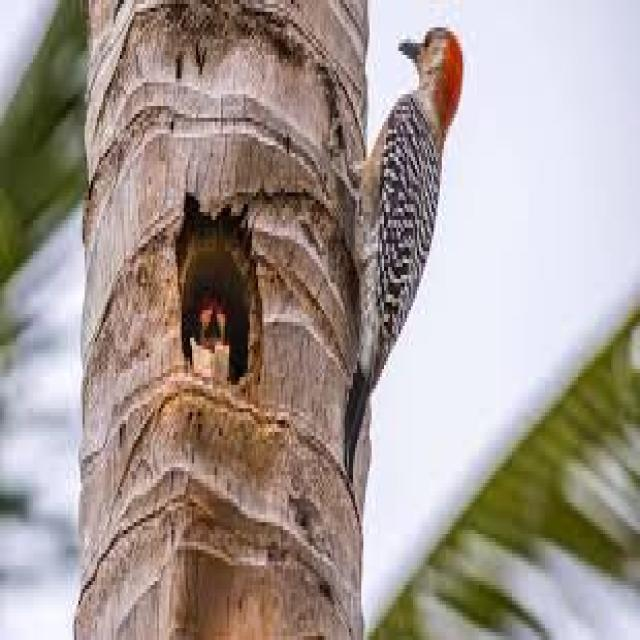Woodpecker: (346, 12, 464, 490)
